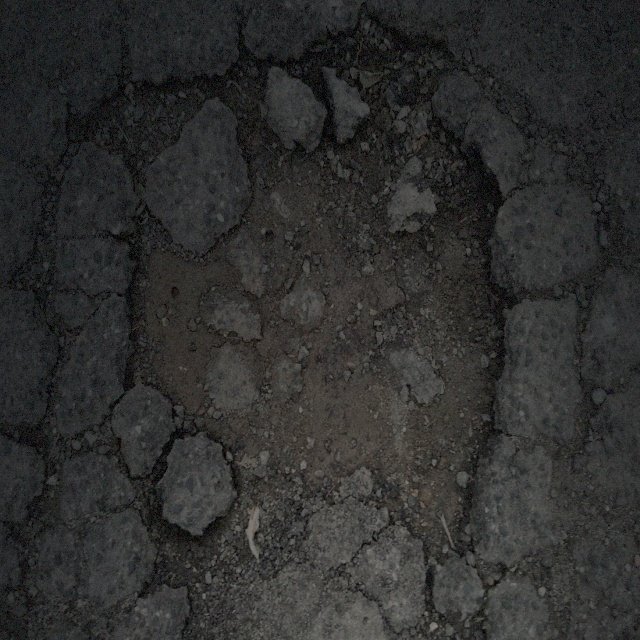pothole: (100, 22, 513, 580)
